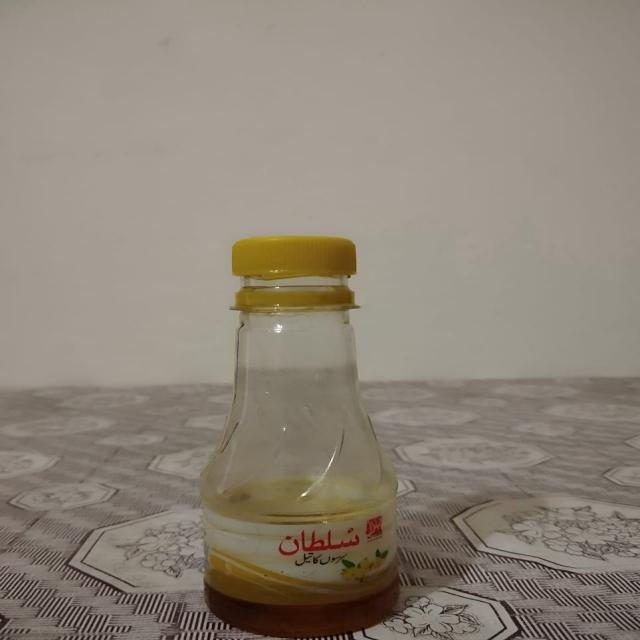bottle: (180, 225, 429, 640)
cap: (220, 230, 362, 313)
label: (196, 481, 399, 614)
